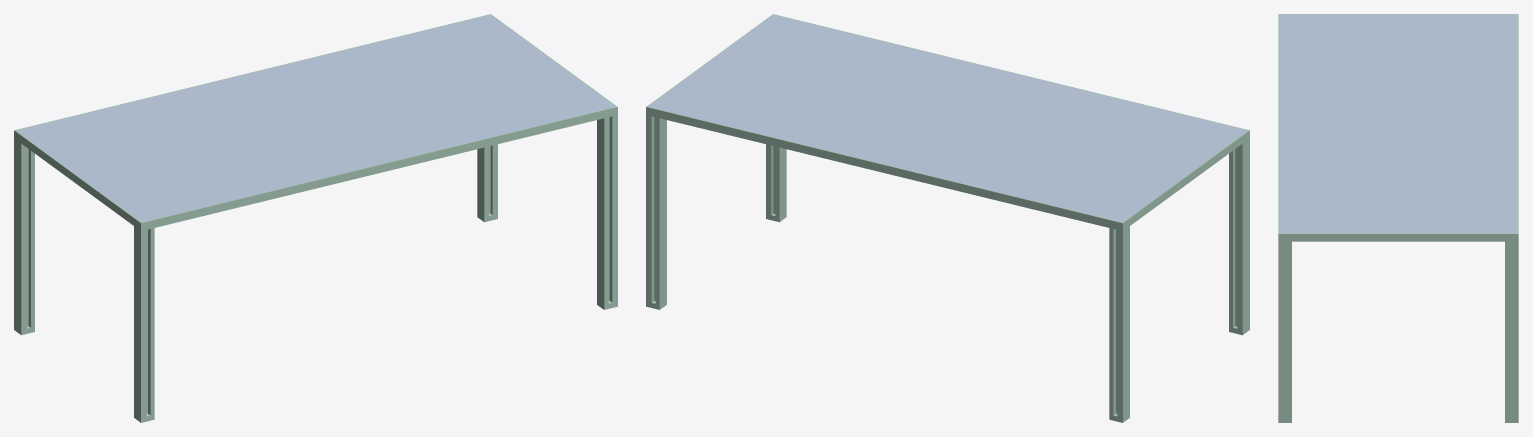
The model's file is sh_scopia_desk_table.glb.
3 views of the same model, side by side, from view 1: azimuth 30°, elevation 25°; view 2: azimuth 150°, elevation 25°; view 3: azimuth 270°, elevation 25° (orthographic). The views are drawn at different scales.
Bounding box in the file's own units: 1.92 × 0.767 × 0.884.
